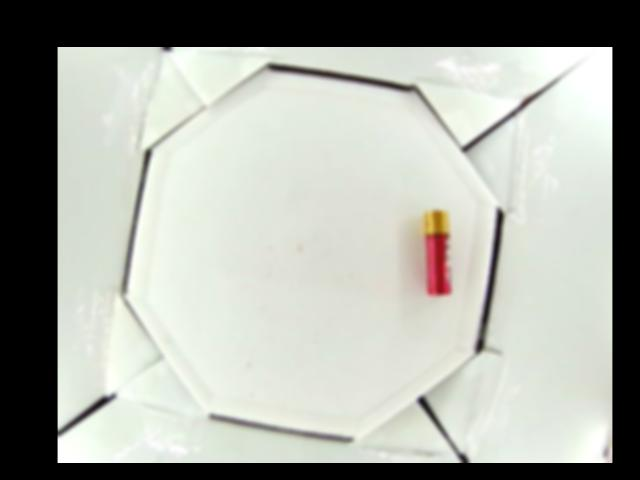Battery: (424, 209, 451, 296)
